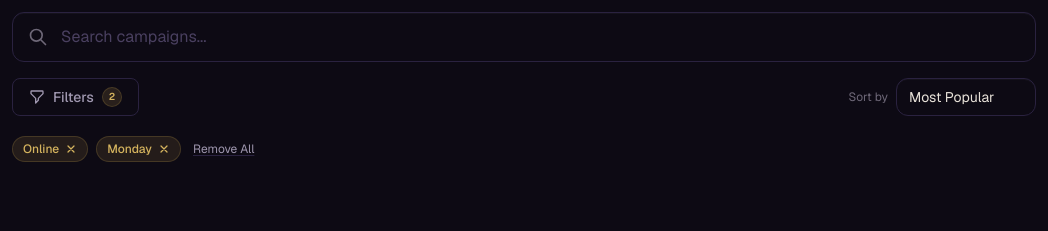
Test: SearchFilterSection › hides filter children initially and reveals them after toggling
The width and height of the screenshot is (1048, 231).
Click the button "Filters 2". click: coordinates (76, 97)
box: [12, 78, 139, 116]
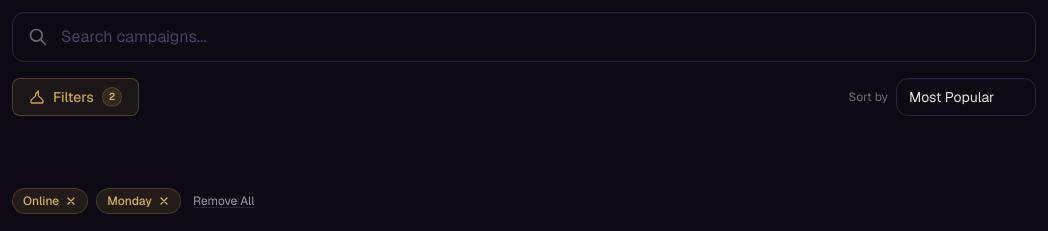
# Toggle again hides the children
Click the button "Filters 2". click: coordinates (76, 97)
box: [12, 78, 139, 116]
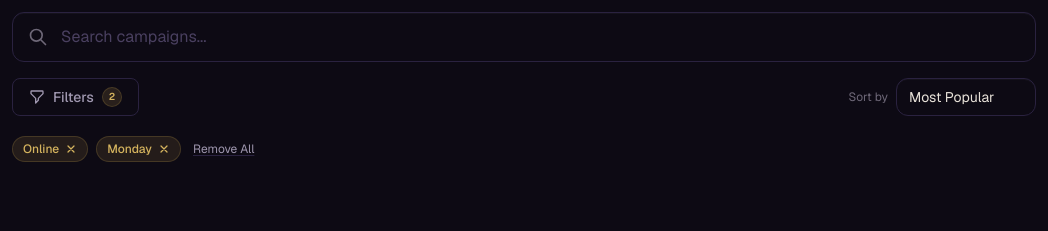
expect the field labelled "extra-filter" is gone: met
